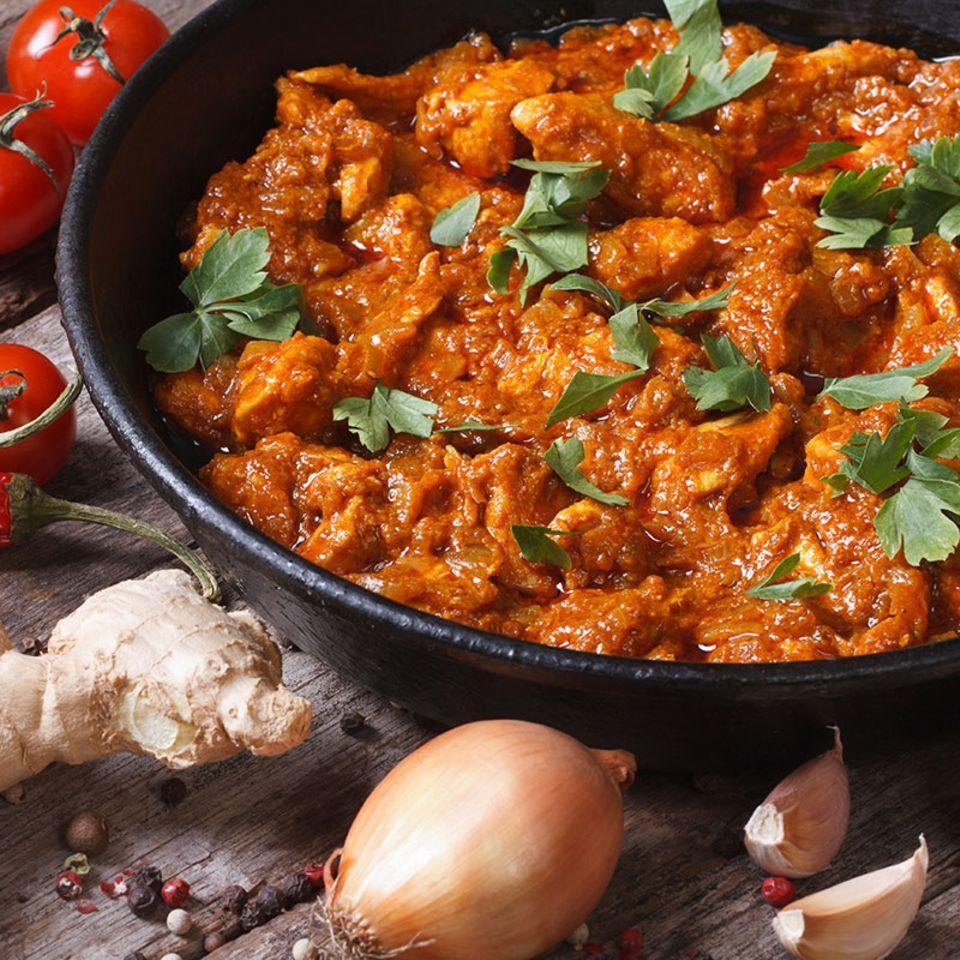chicken: (165, 39, 960, 667)
